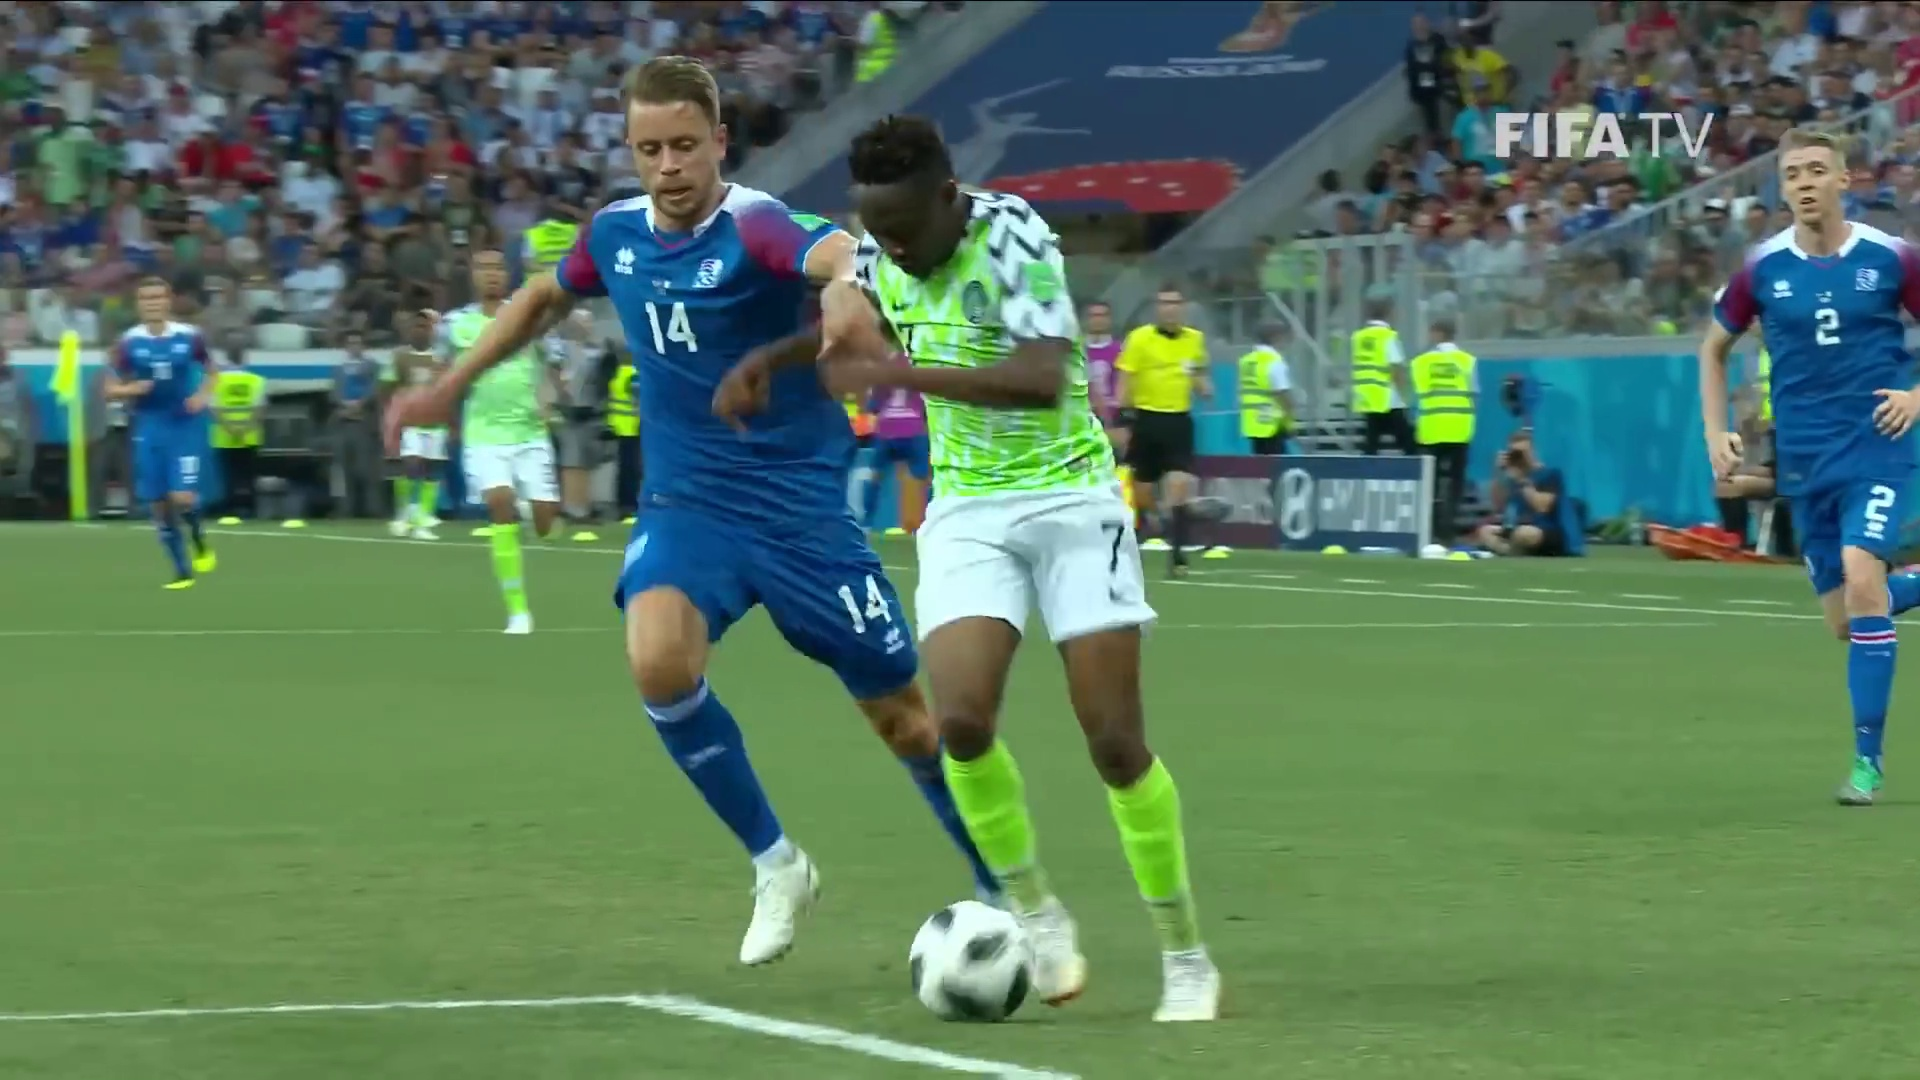ball: (907, 892, 1028, 1012)
person: (397, 49, 1044, 963), (828, 114, 1226, 1031), (1703, 129, 1920, 804), (446, 247, 556, 633), (114, 282, 222, 588)
